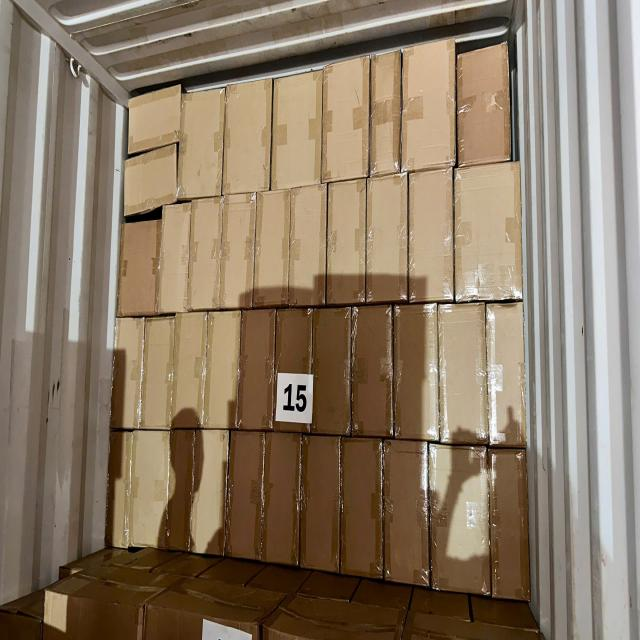Carton: (428, 441, 492, 598), (453, 167, 523, 301), (437, 301, 489, 447), (487, 446, 533, 604), (403, 38, 456, 170), (384, 439, 430, 591), (457, 42, 512, 164), (392, 306, 440, 442), (340, 440, 384, 580), (408, 172, 455, 302), (486, 302, 528, 446), (350, 306, 394, 437), (324, 58, 371, 180), (367, 174, 409, 302), (273, 76, 321, 186), (312, 308, 352, 438), (304, 431, 340, 573), (225, 84, 271, 191), (226, 428, 263, 559), (327, 179, 365, 305), (117, 216, 163, 316), (193, 428, 228, 558), (289, 187, 327, 306), (266, 430, 300, 563), (132, 428, 170, 546), (180, 92, 222, 196), (254, 190, 290, 310), (277, 308, 311, 432), (240, 312, 274, 429), (123, 86, 182, 152), (206, 313, 240, 427), (222, 193, 255, 309), (158, 204, 192, 314), (190, 199, 222, 313), (370, 51, 400, 172), (174, 314, 206, 426), (112, 316, 142, 428), (124, 152, 178, 212), (144, 316, 172, 428), (108, 430, 132, 550), (170, 428, 193, 548)
